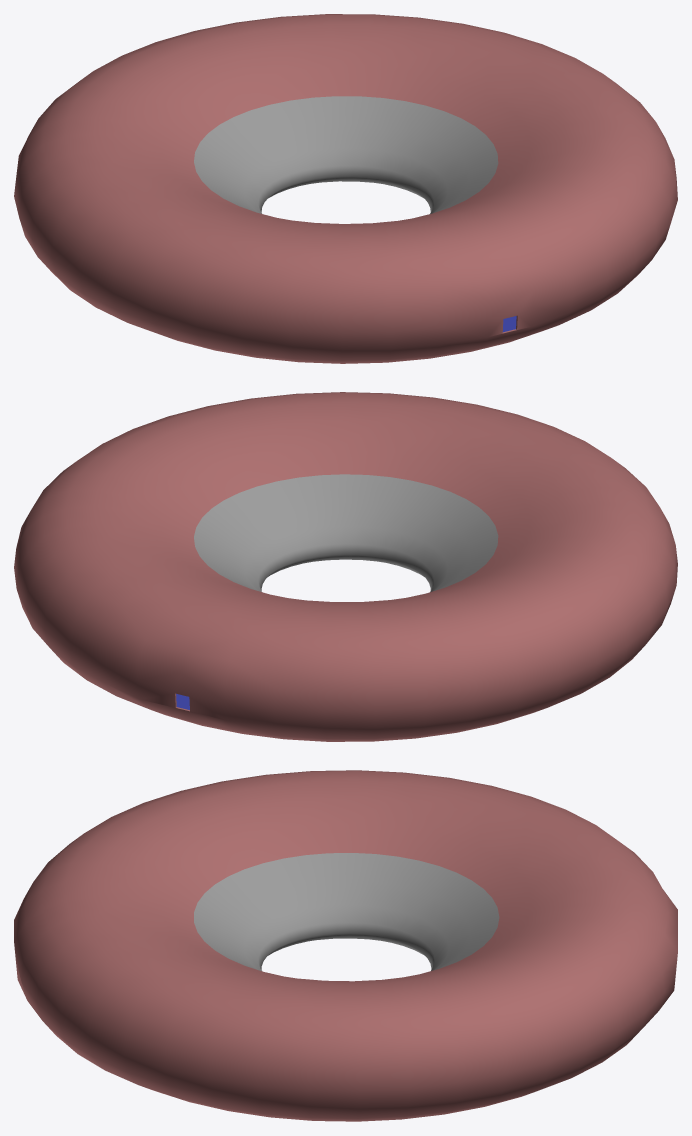
The model's file is SS Module Dounut 1.FBX.
The picture shows the model from 3 angles, top to bottom: view 1: azimuth 30°, elevation 25°; view 2: azimuth 150°, elevation 25°; view 3: azimuth 270°, elevation 25°; orthographic projection.
Visible parts, largest first — view 1: Torus006, Inner Glass; view 2: Torus006, Inner Glass; view 3: Torus006, Inner Glass.
Part boxes in pixels (x1,y1,x2,y2): Torus006: (14,14,677,363); Inner Glass: (194,96,498,213); Torus006: (14,392,677,741); Inner Glass: (194,474,498,591); Torus006: (14,770,677,1121); Inner Glass: (194,853,499,970).
Bounding box in the file's own units: 160 × 32.12 × 160.
